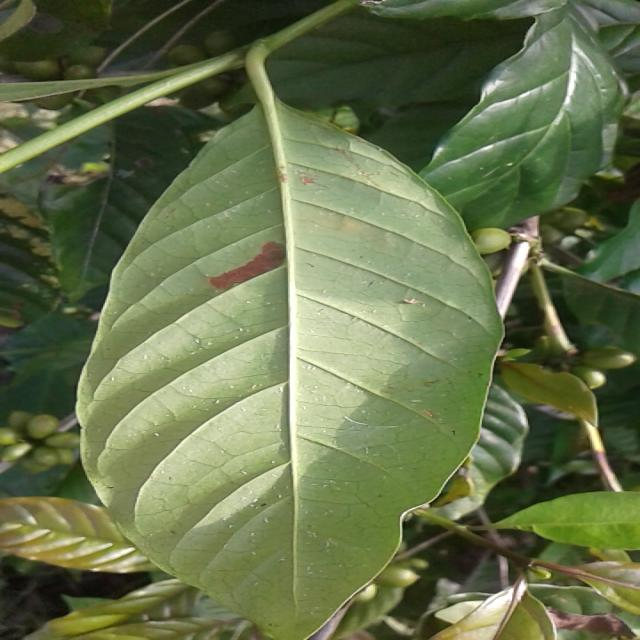Plaga-AranaRoja: (74, 42, 503, 632)
